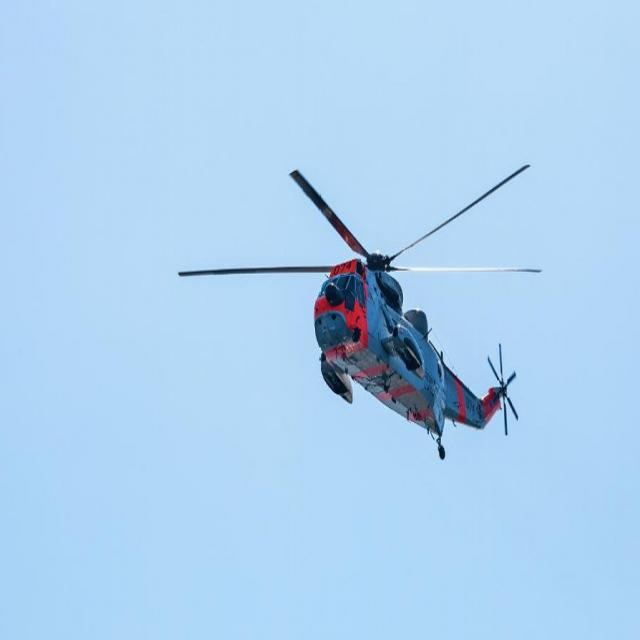helicopter: (178, 167, 561, 461)
